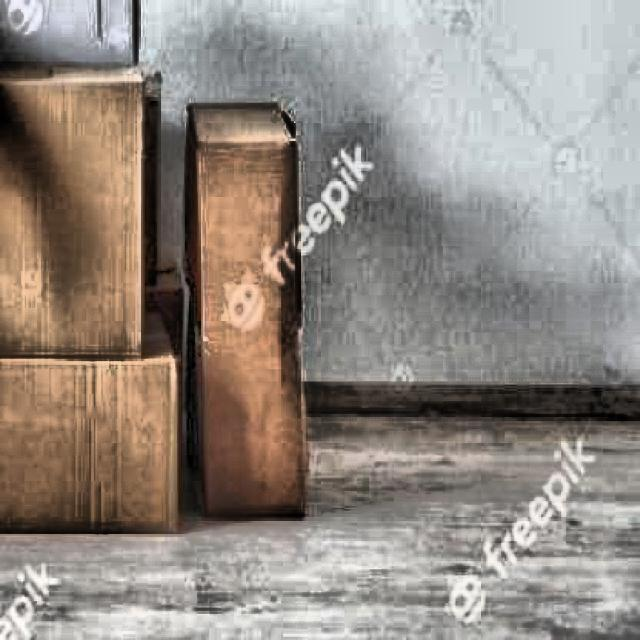Cardbox: (178, 99, 308, 532)
